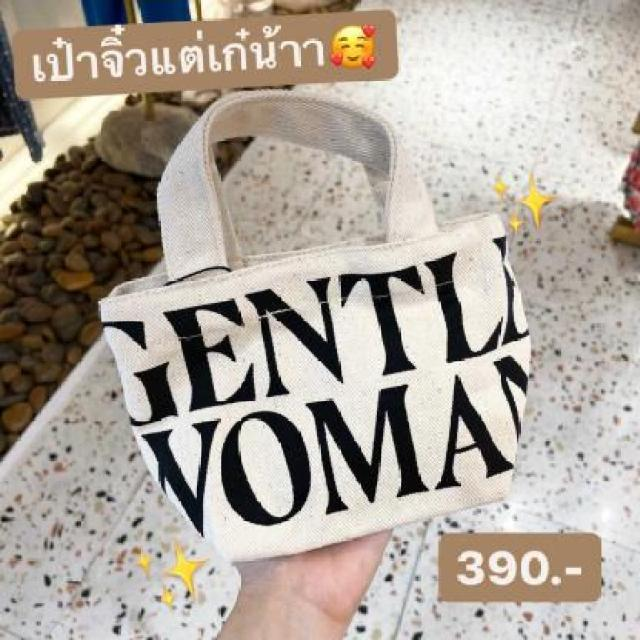Bag: (91, 77, 564, 560)
